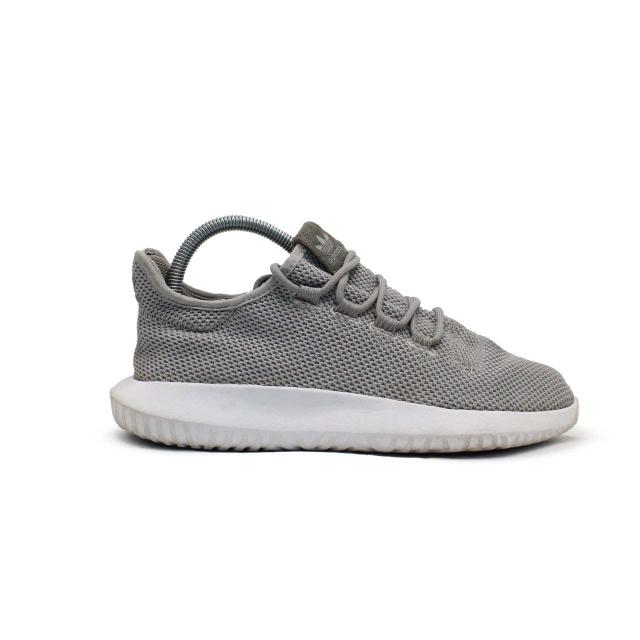heel: (128, 248, 161, 376)
midsole: (110, 380, 577, 451)
uppersole: (158, 223, 583, 404)
